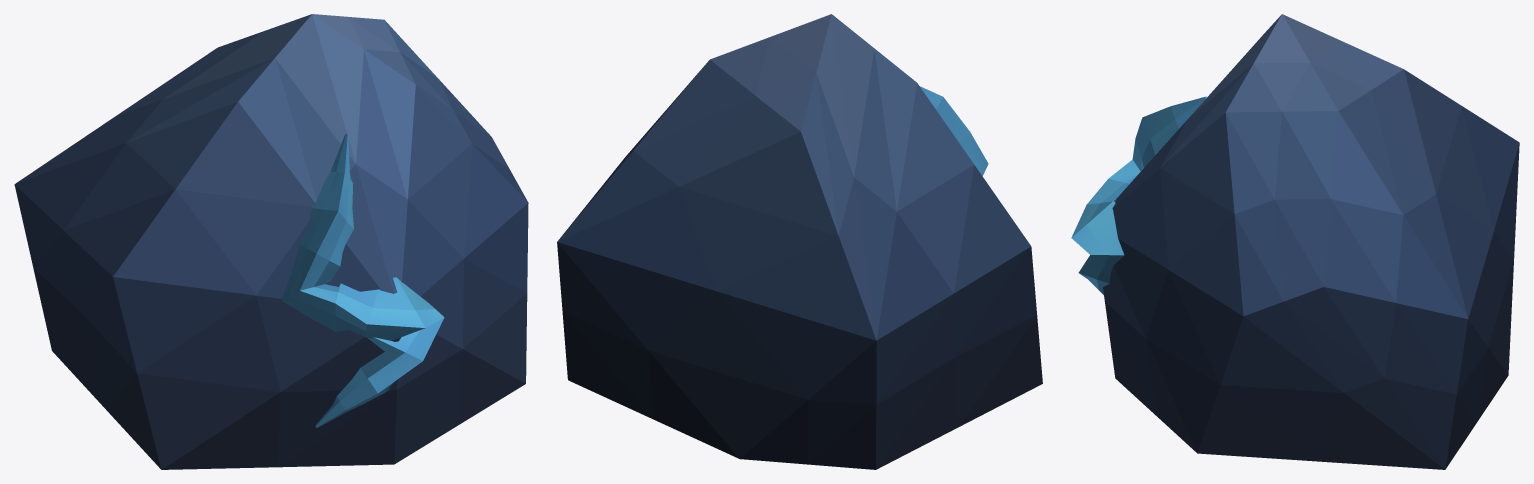
The model's file is Stormstone.glb.
3 renders of one model, left to right at view 1: azimuth 30°, elevation 25°; view 2: azimuth 150°, elevation 25°; view 3: azimuth 270°, elevation 25°, orthographic. The views are drawn at different scales.
Parts seen in each view (by area): view 1: Stormstone; view 2: Stormstone; view 3: Stormstone.
Part boxes in pixels (left/top/right/bottom): Stormstone: left=14, top=14, right=528, bottom=469; Stormstone: left=557, top=14, right=1042, bottom=469; Stormstone: left=1071, top=14, right=1519, bottom=469.
Bounding box in the file's own units: 1.26 × 1.14 × 1.25.
